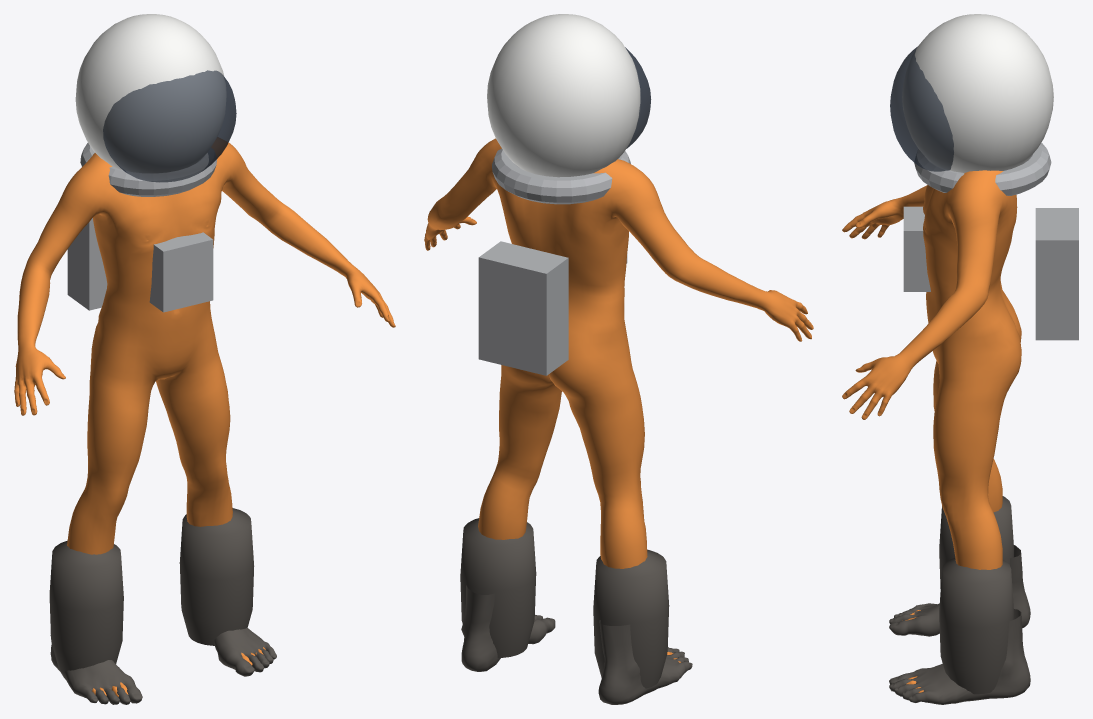
File: gagarin.glb
3 views of the same model, side by side, from view 1: azimuth 30°, elevation 25°; view 2: azimuth 150°, elevation 25°; view 3: azimuth 270°, elevation 25° (orthographic). The views are drawn at different scales.
Visible parts, largest first — view 1: Cosmonaut; view 2: Cosmonaut; view 3: Cosmonaut.
Part boxes in pixels (x1=…): Cosmonaut: x1=14, y1=14, x2=395, y2=704; Cosmonaut: x1=424, y1=14, x2=813, y2=704; Cosmonaut: x1=842, y1=14, x2=1078, y2=704.
Size of the model in its own units: 0.8968 by 1.47 by 0.4927.
